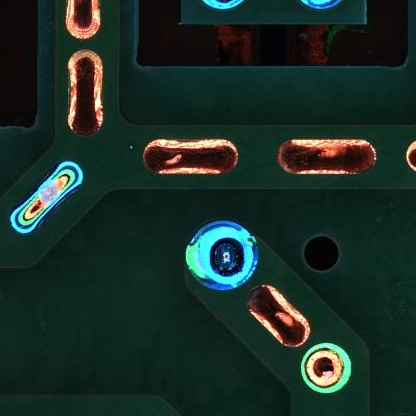spot: (185, 219, 257, 288), (299, 342, 353, 395)
